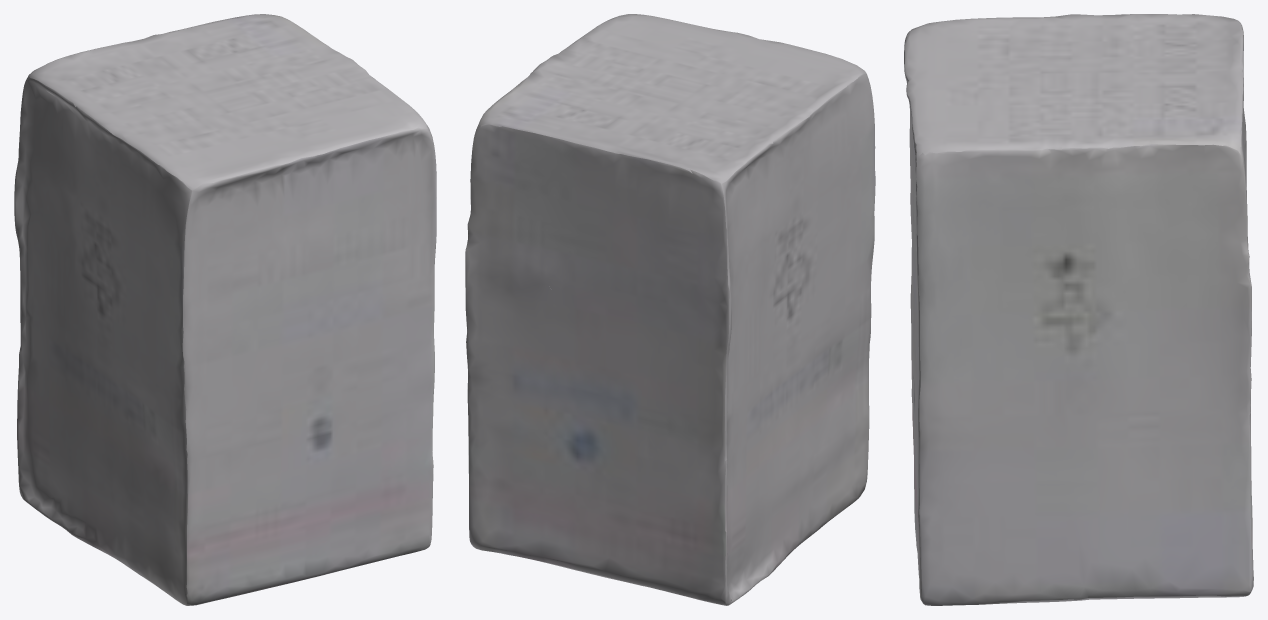
The picture shows the model from 3 angles, left to right: view 1: azimuth 30°, elevation 25°; view 2: azimuth 150°, elevation 25°; view 3: azimuth 270°, elevation 25°; orthographic projection. The views are drawn at different scales.
Parts seen in each view (by area): view 1: world; view 2: world; view 3: world.
Boxes of the visible parts, x1,y1,x2,y2 form: world: (14, 14, 436, 605); world: (465, 14, 875, 605); world: (904, 14, 1253, 605).
Size of the model in its own units: 0.3471 by 0.5363 by 0.3654.
Materials: 1 (1 with a texture image).
